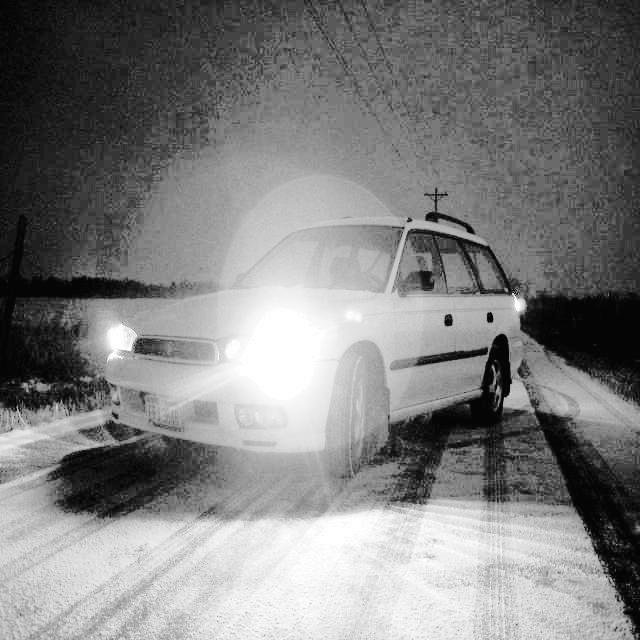Car: (90, 212, 543, 520)
